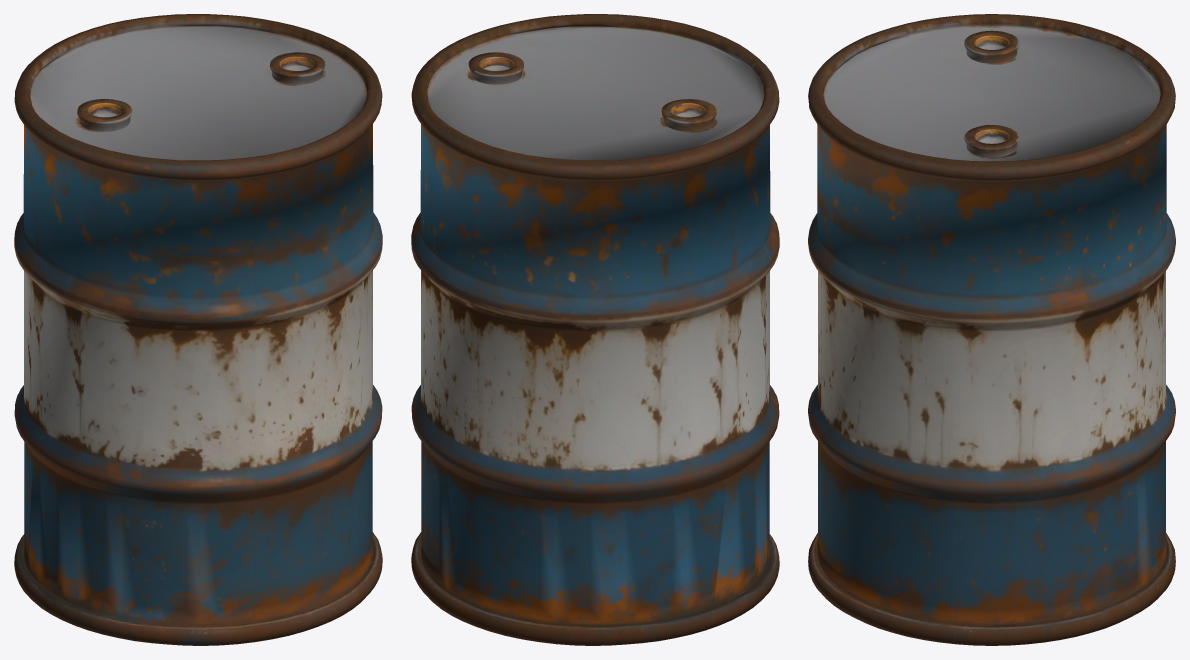
File: old_oil_barrel_a6459ce8_v1.glb
3 renders of one model, left to right at view 1: azimuth 30°, elevation 25°; view 2: azimuth 150°, elevation 25°; view 3: azimuth 270°, elevation 25°, orthographic.
Parts seen in each view (by area): view 1: material; view 2: material; view 3: material.
Part boxes in pixels (left/top/right/bottom): material: left=14, top=14, right=382, bottom=645; material: left=411, top=14, right=779, bottom=645; material: left=808, top=14, right=1175, bottom=645.
Bounding box in the file's own units: 1.32 × 1.9 × 1.31.
1 material, 1 textured.
